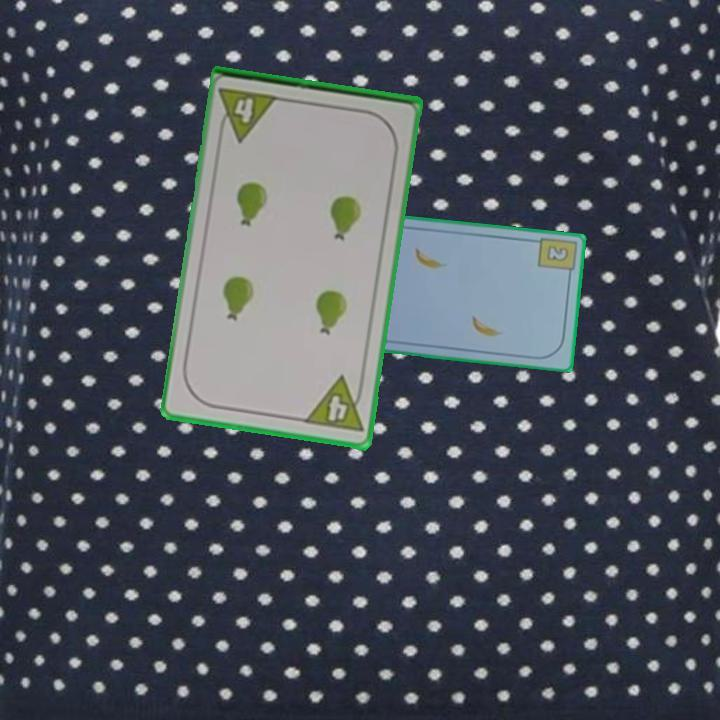2b: (534, 233, 579, 281)
4p: (301, 373, 368, 436), (215, 84, 282, 144)
